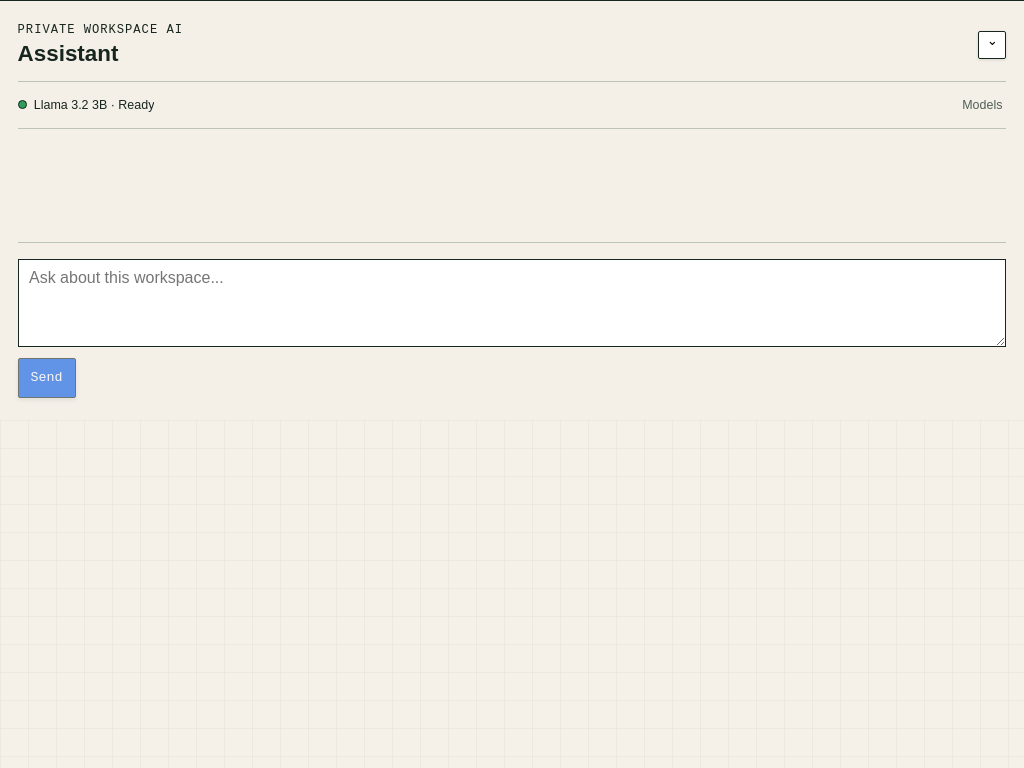
Test: AssistantPanel › aborts and cancels a running request
In the text box named "Ask the workspace assistant": (512, 303) [18, 259, 1006, 347], type "Long question"
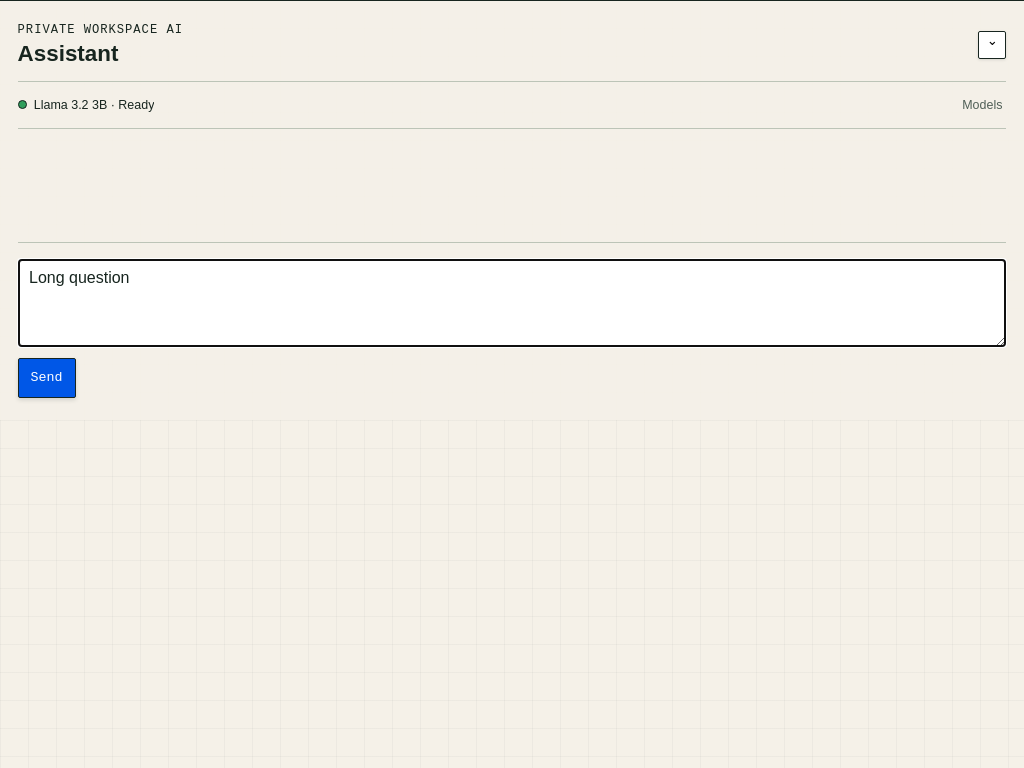
Click the button "Send": (47, 378) [18, 358, 76, 398]
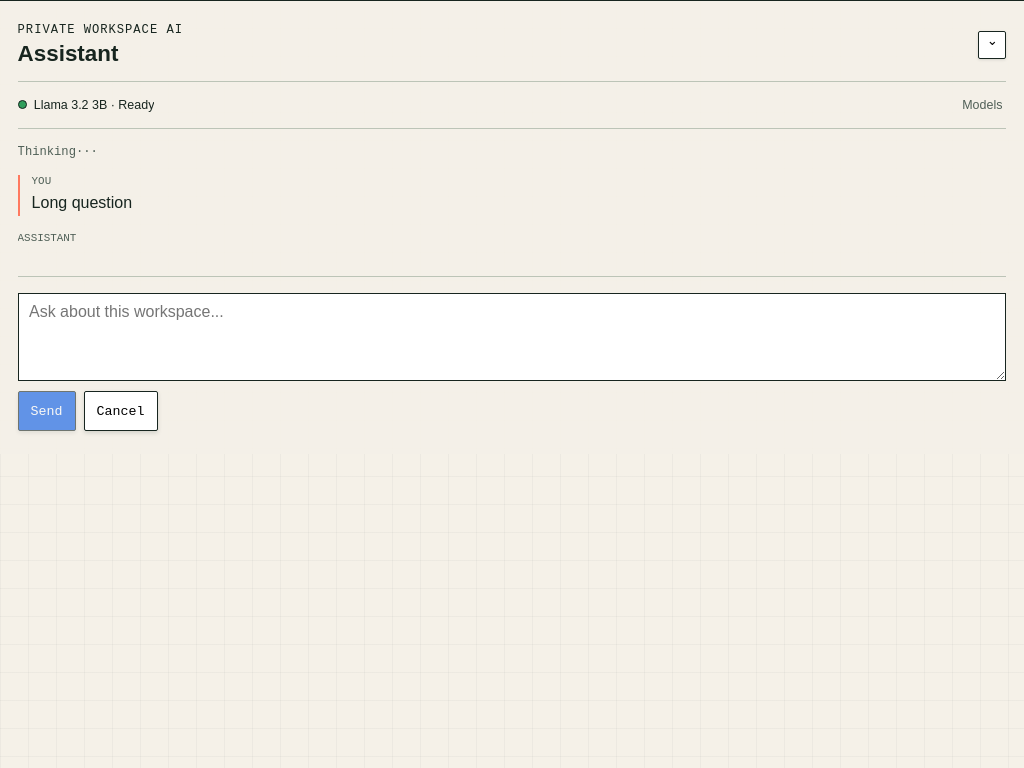
Click the button "Cancel": (121, 411) [84, 391, 158, 431]
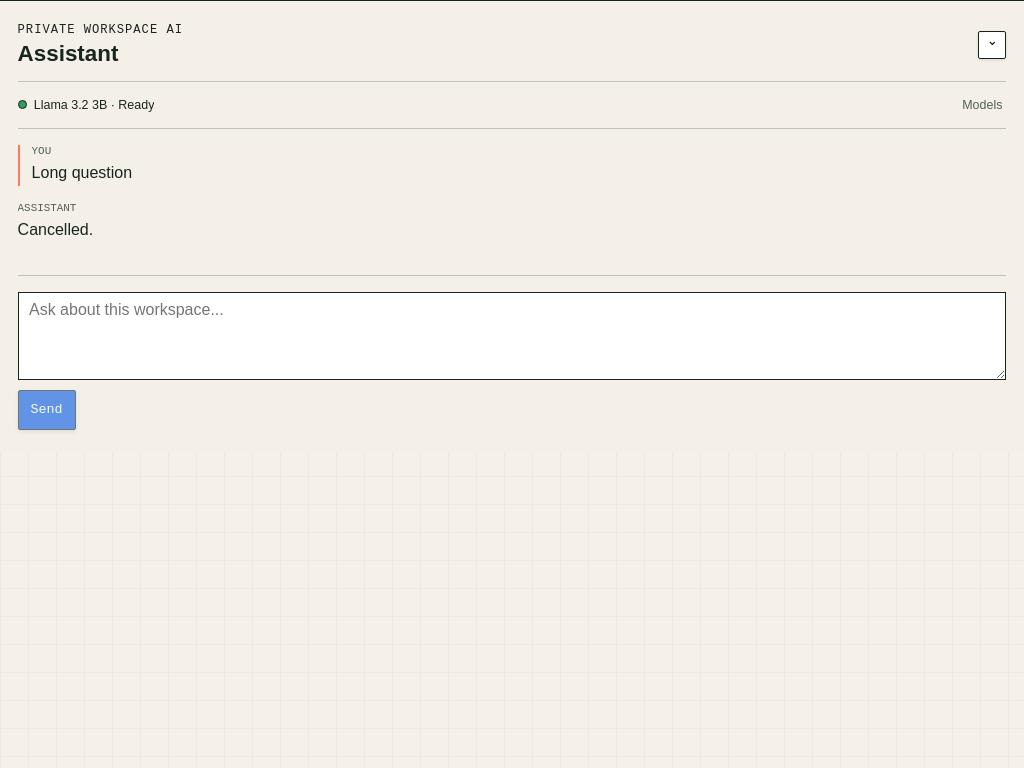
Now the text "Cancelled." is shown, box [18, 221, 93, 238]
